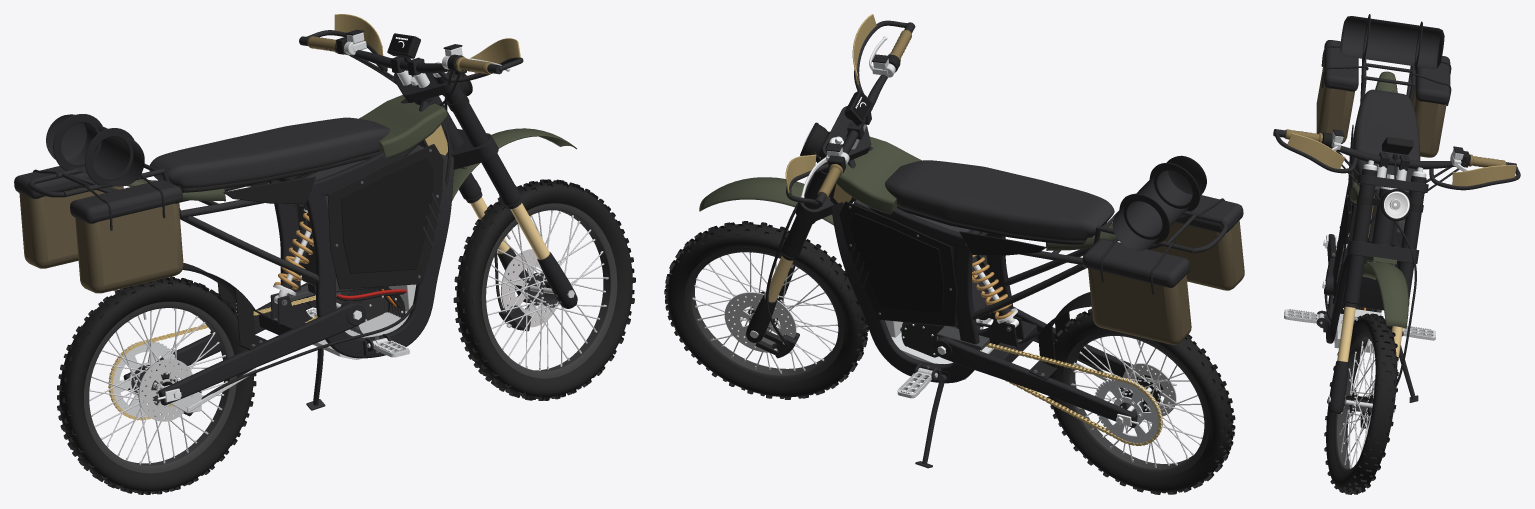
File: surron-light-bee-x-overland.glb
The picture shows the model from 3 angles, left to right: view 1: azimuth 30°, elevation 25°; view 2: azimuth 150°, elevation 25°; view 3: azimuth 270°, elevation 25°; orthographic projection. The views are drawn at different scales.
Parts seen in each view (by area): view 1: Tire_R, Tire_F, Acc_Panniers, Seat, Frame_Main, SidePanel_Inner_R, Swingarm_Arms, SidePanel_R, Rim_F, Rim_R, Acc_Pannier_Lids, Spokes_F (+25 smaller); view 2: Seat, Tire_F, Acc_Panniers, Tire_R, Frame_Main, SidePanel_Inner_L, Swingarm_Arms, Acc_Pannier_Lids, Acc_Duffel, Rim_F, SidePanel_L, Rim_R (+22 smaller); view 3: Tire_F, Acc_Duffel, Seat, Acc_Panniers, Acc_Pannier_Lids, Acc_Handguards, FrontFender, Fork_Upper_R, Spokes_F, Rim_F, Frame_Main, Fork_Upper_L (+27 smaller).
Part boxes in pixels (x1,y1,x2,y2): Tire_R: (57,276,256,494); Tire_F: (453,179,635,400); Acc_Panniers: (19,186,183,293); Seat: (149,117,390,188); Frame_Main: (268,98,454,358); SidePanel_Inner_R: (341,157,433,273); Swingarm_Arms: (123,283,366,405); SidePanel_R: (327,144,443,289); Rim_F: (481,203,617,378); Rim_R: (84,301,236,473); Acc_Pannier_Lids: (14,166,182,223); Spokes_F: (486,210,607,369); Seat: (885,160,1114,240); Tire_F: (664,221,868,399); Acc_Panniers: (1088,220,1244,344); Tire_R: (1047,308,1235,494); Frame_Main: (830,147,1013,383); SidePanel_Inner_L: (850,213,944,313); Swingarm_Arms: (933,297,1168,427); Acc_Pannier_Lids: (1082,195,1243,287); Acc_Duffel: (1112,155,1206,250); Rim_F: (684,248,843,381); SidePanel_L: (839,201,957,326); Rim_R: (1063,331,1209,476); Tire_F: (1324,313,1398,494); Acc_Duffel: (1340,16,1444,68); Seat: (1352,89,1420,191); Acc_Panniers: (1316,61,1446,157); Acc_Pannier_Lids: (1324,40,1450,104); Acc_Handguards: (1287,133,1516,186); FrontFender: (1362,261,1408,328); Fork_Upper_R: (1343,168,1377,304); Spokes_F: (1339,340,1375,467); Rim_F: (1334,332,1374,474); Frame_Main: (1323,171,1401,343); Fork_Upper_L: (1398,175,1426,306).
Bounding box in the file's own units: 1.9 × 1.22 × 0.8437.
